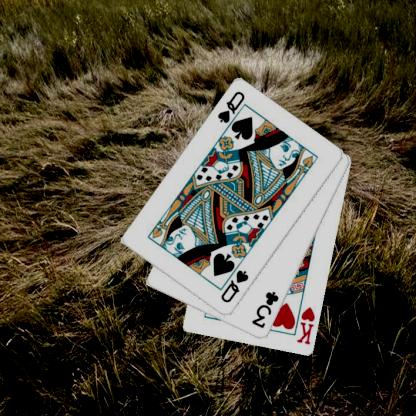3C: (249, 289, 280, 330)
KH: (294, 304, 317, 346)
QS: (218, 268, 250, 304), (215, 89, 246, 125)
